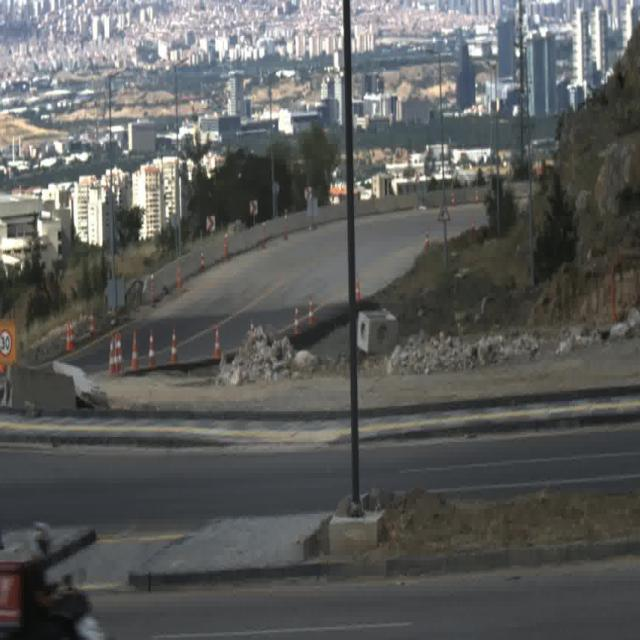Motorcycle: (0, 524, 102, 640)
